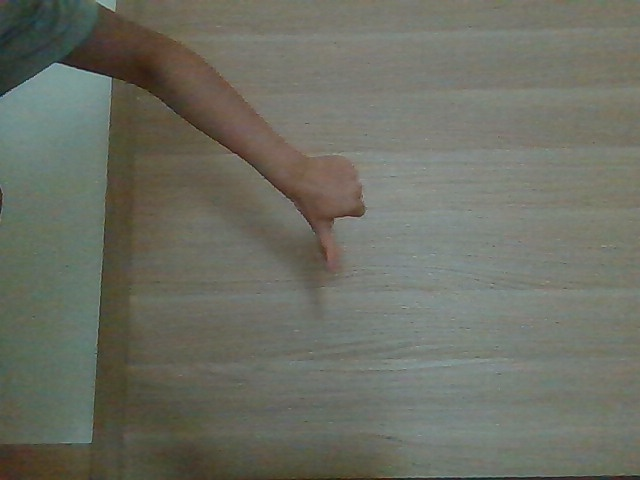Thumbs down: (280, 136, 386, 273)
